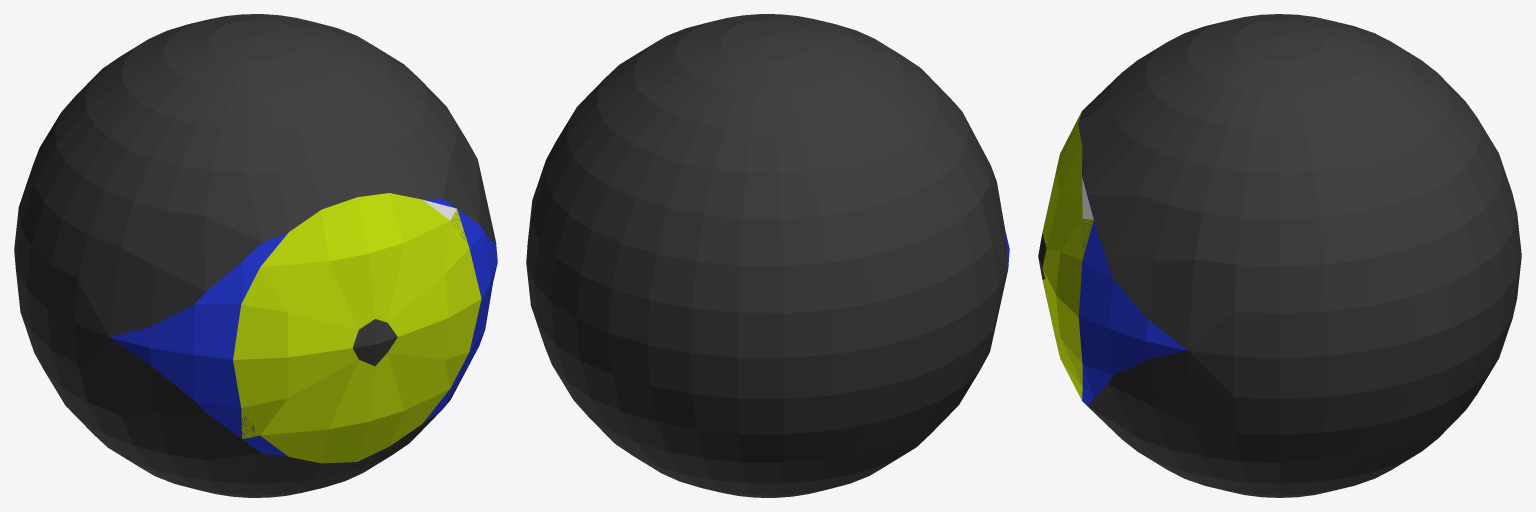
File: エネミーボール.fbx
3 views of the same model, side by side, from view 1: azimuth 30°, elevation 25°; view 2: azimuth 150°, elevation 25°; view 3: azimuth 270°, elevation 25° (orthographic).
Parts seen in each view (by area): view 1: 球; view 2: 球; view 3: 球.
Part boxes in pixels (left/top/right/bottom): 球: left=14, top=14, right=497, bottom=497; 球: left=526, top=14, right=1009, bottom=497; 球: left=1038, top=14, right=1521, bottom=497.
Bounding box in the file's own units: 100 × 100 × 99.84.
